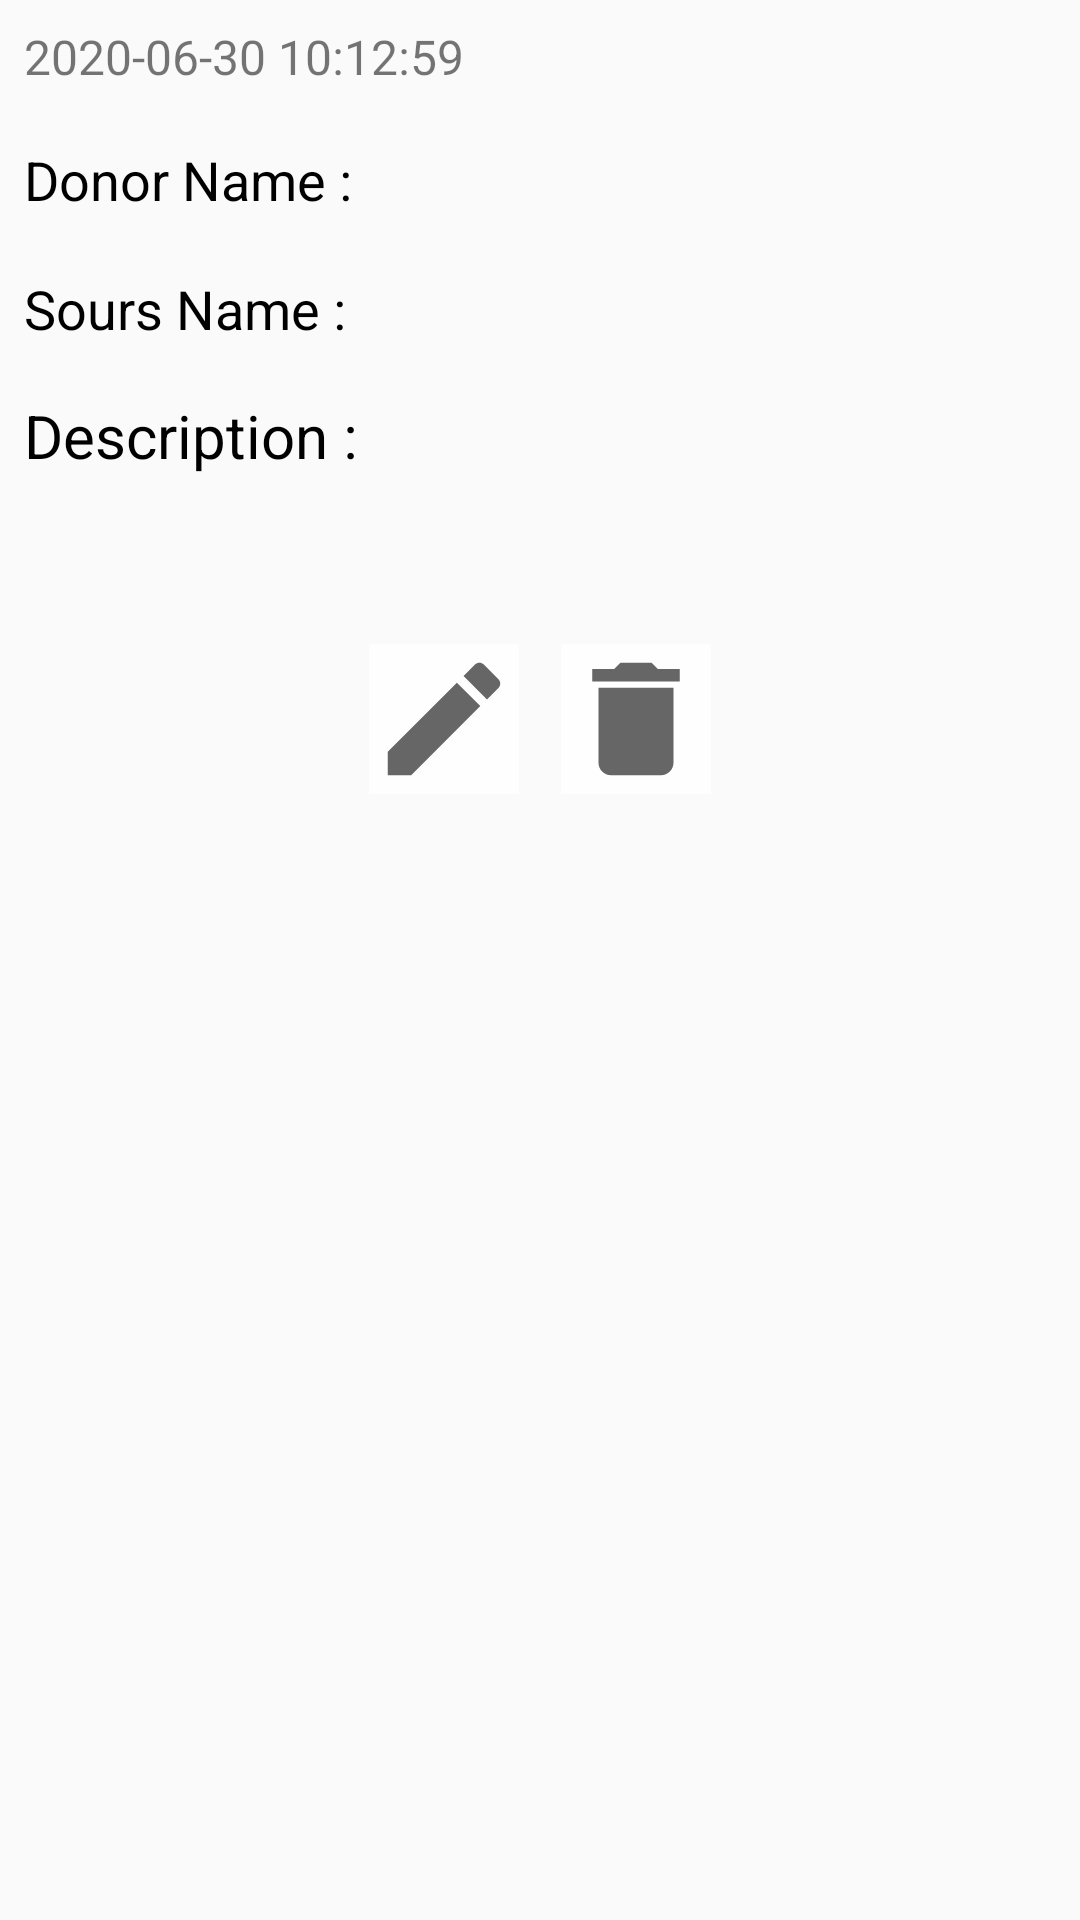

Icon click points for this 1080px×1920px phone screenshot, format [x,y]:
delete: [636,719]
edit: [444,719]
